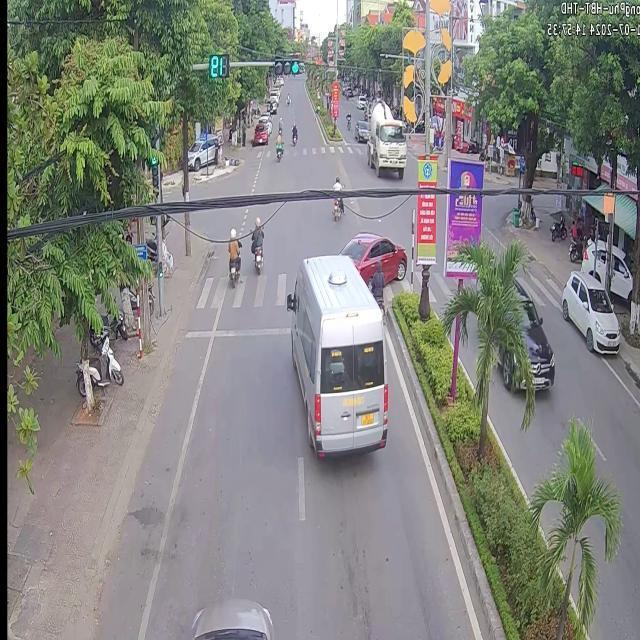car: (284, 254, 387, 456)
green_light: (272, 56, 302, 74), (149, 156, 157, 185)
motobike: (339, 231, 404, 282), (367, 260, 383, 311), (249, 216, 262, 271), (227, 227, 239, 285)
stop_line: (181, 323, 290, 336)
